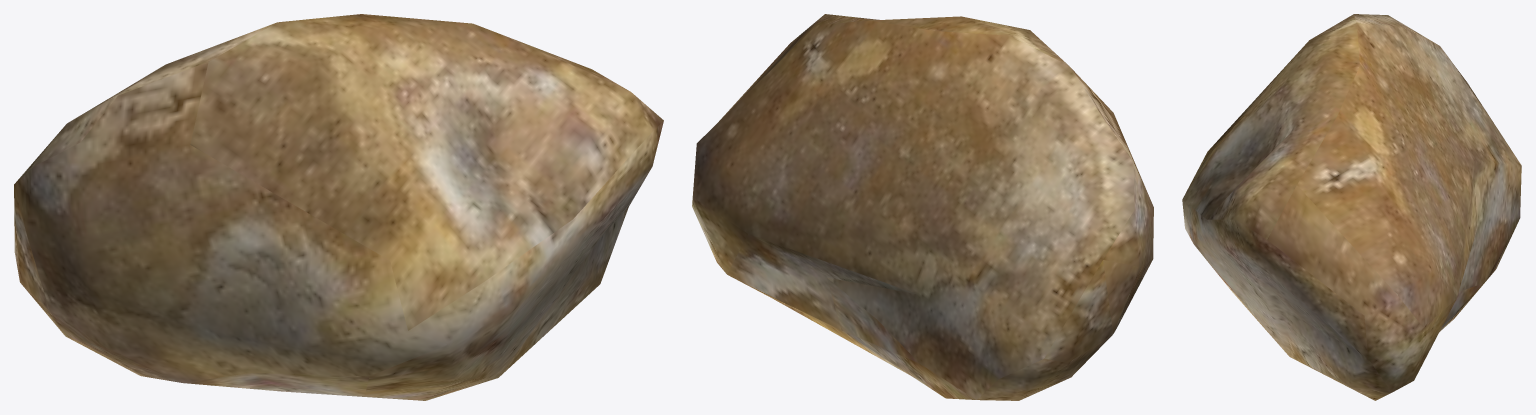
3 renders of one model, left to right at view 1: azimuth 30°, elevation 25°; view 2: azimuth 150°, elevation 25°; view 3: azimuth 270°, elevation 25°, orthographic. The views are drawn at different scales.
Parts seen in each view (by area): view 1: rock089_lod4; view 2: rock089_lod4; view 3: rock089_lod4.
Boxes of the visible parts, left/top/right/bottom form: rock089_lod4: left=14, top=14, right=663, bottom=400; rock089_lod4: left=692, top=14, right=1153, bottom=400; rock089_lod4: left=1182, top=14, right=1521, bottom=400.
Bounding box in the file's own units: 1 × 0.6756 × 0.6951.
1 material, 1 textured.
